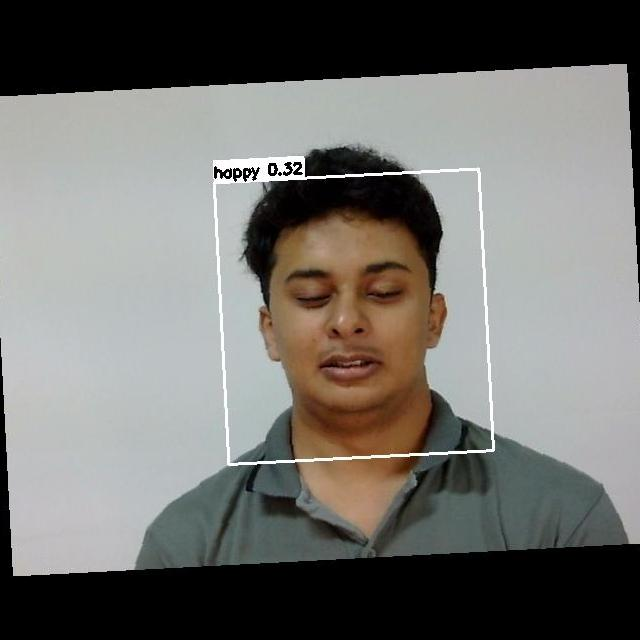Fear: (263, 248, 442, 391)
